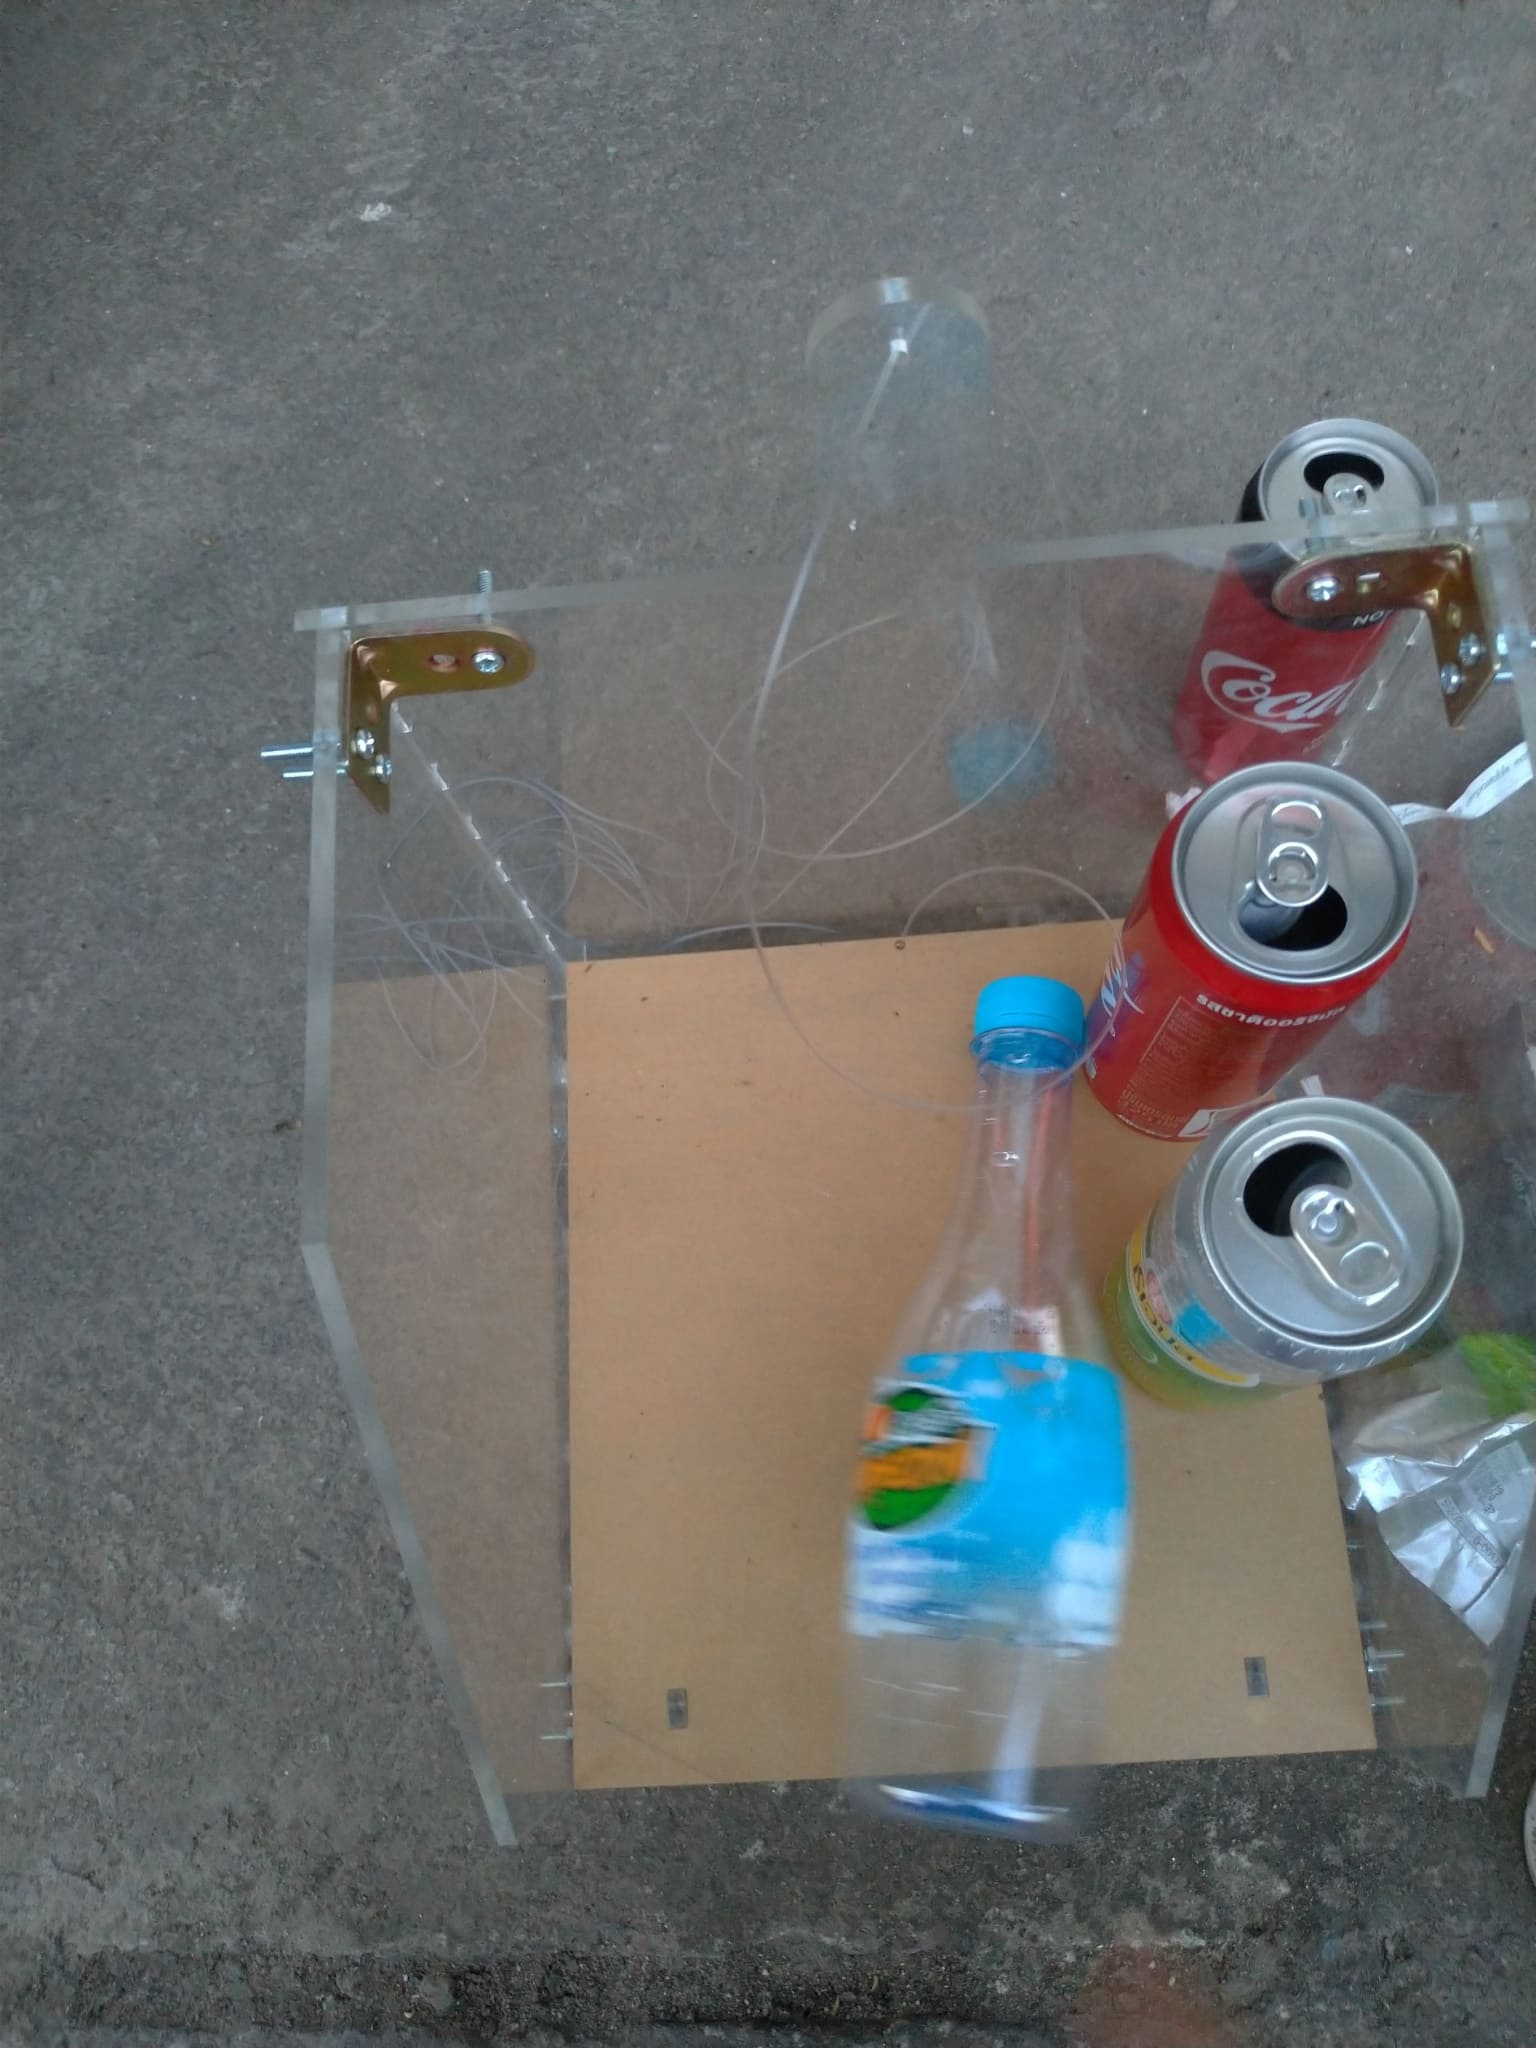AlCan: (1076, 761, 1415, 1135), (1141, 1090, 1457, 1409), (1170, 413, 1438, 789)
Others: (1357, 1335, 1536, 1617)
PlasticBottle: (834, 958, 1144, 1842)
